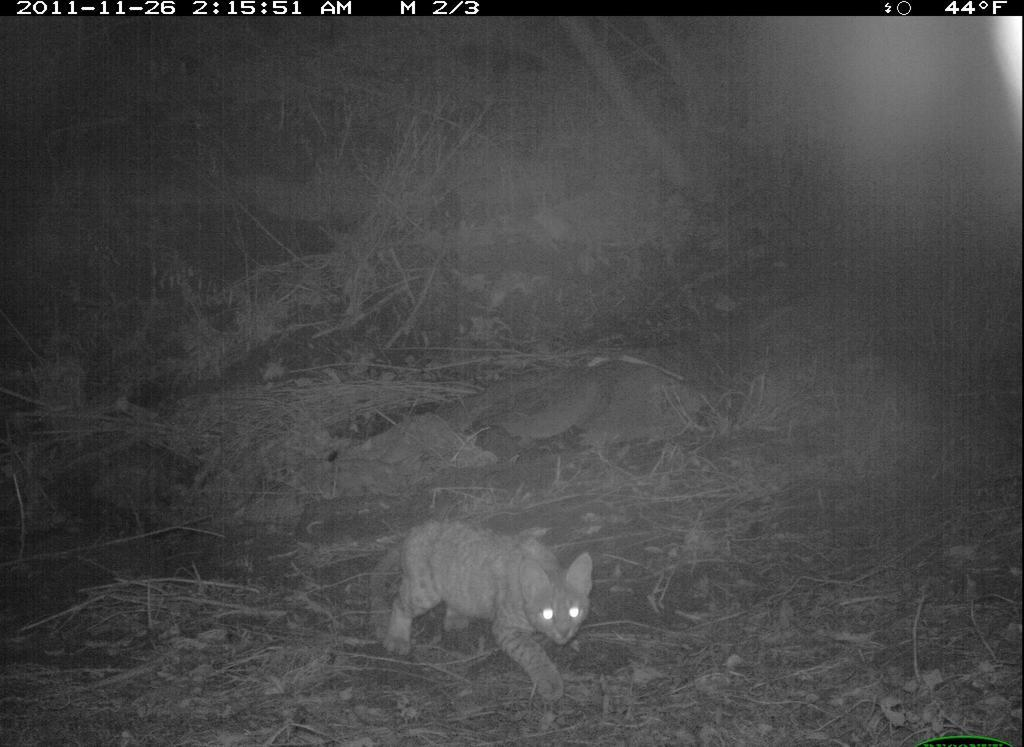bobcat: (364, 504, 597, 703)
